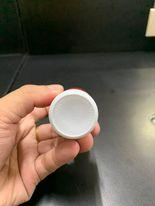-Bottle-: (49, 89, 99, 139)
